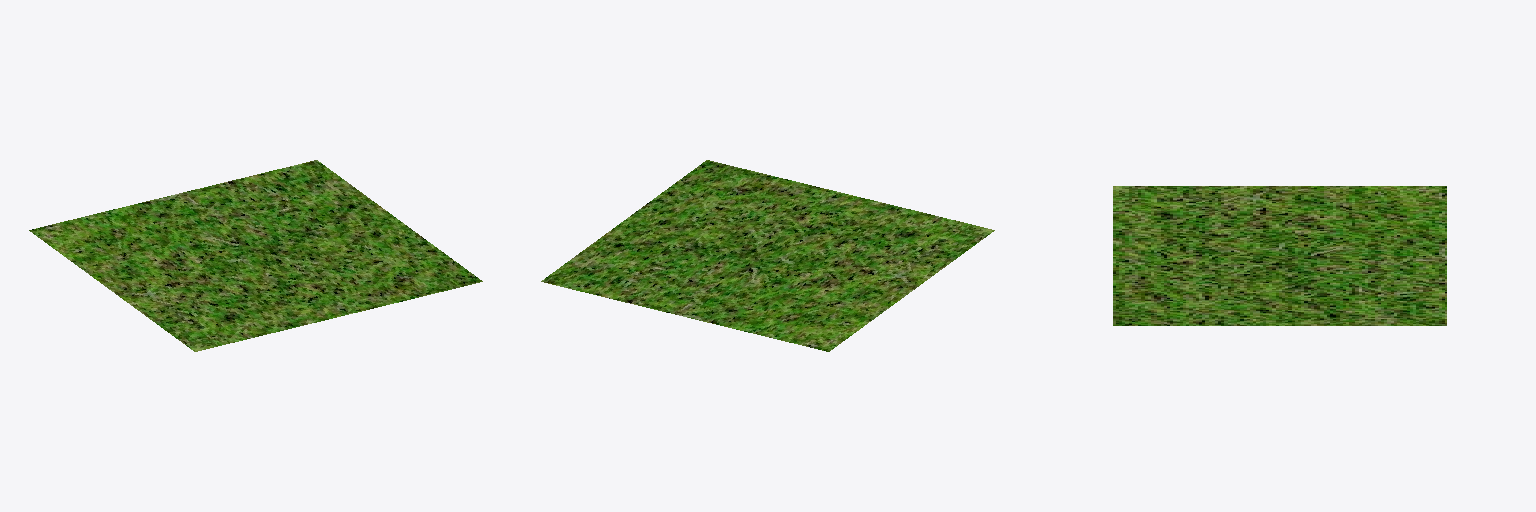
The picture shows the model from 3 angles: view 1: azimuth 30°, elevation 25°; view 2: azimuth 150°, elevation 25°; view 3: azimuth 270°, elevation 25°; orthographic projection.
Visible parts, largest first — view 1: 立方体; view 2: 立方体; view 3: 立方体.
Part boxes in pixels (bbox=[...]): 立方体: bbox=[29, 160, 482, 351]; 立方体: bbox=[541, 160, 994, 351]; 立方体: bbox=[1113, 186, 1446, 325].
Size of the model in its own units: 24.79 by 0 by 24.79.
1 materials, 1 textured.